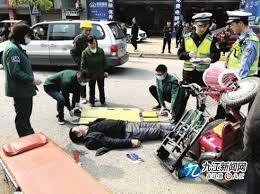Fall-Detected: (63, 107, 175, 152)
